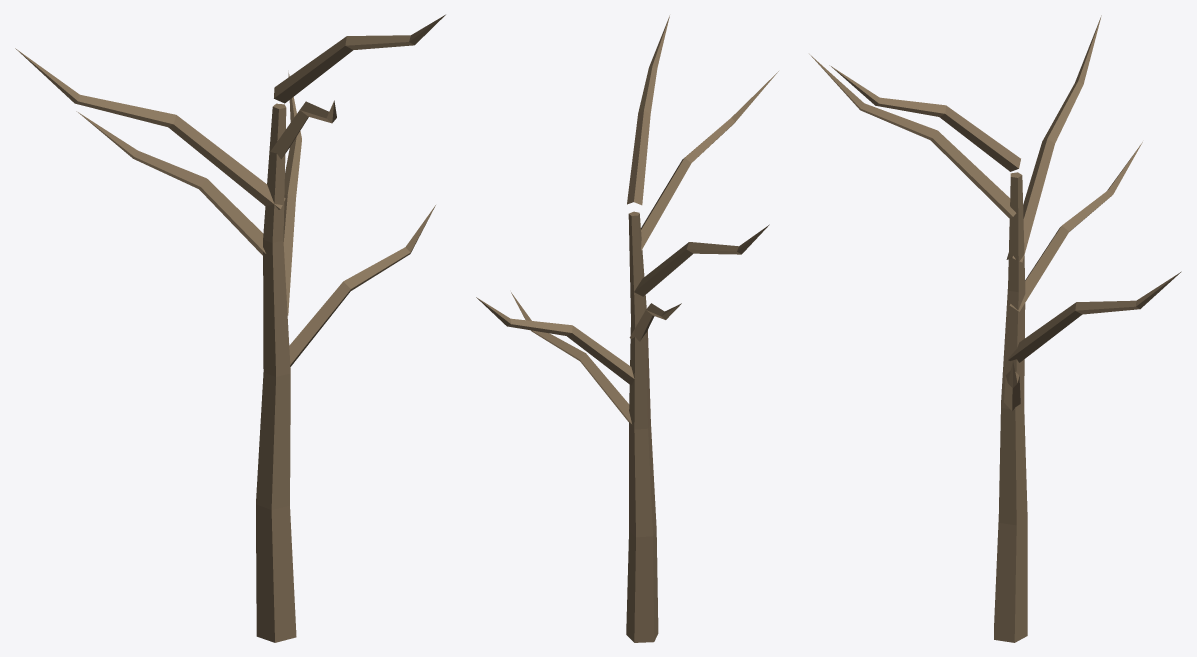
The picture shows the model from 3 angles, left to right: view 1: azimuth 30°, elevation 25°; view 2: azimuth 150°, elevation 25°; view 3: azimuth 270°, elevation 25°; orthographic projection. The views are drawn at different scales.
Parts seen in each view (by area): view 1: 树_06; view 2: 树_06; view 3: 树_06.
Part boxes in pixels (x1,y1,x2,y2): 树_06: (15,14,445,642); 树_06: (476,15,778,642); 树_06: (809,15,1181,642).
Bounding box in the file's own units: 2.64 × 4.6 × 2.6.
